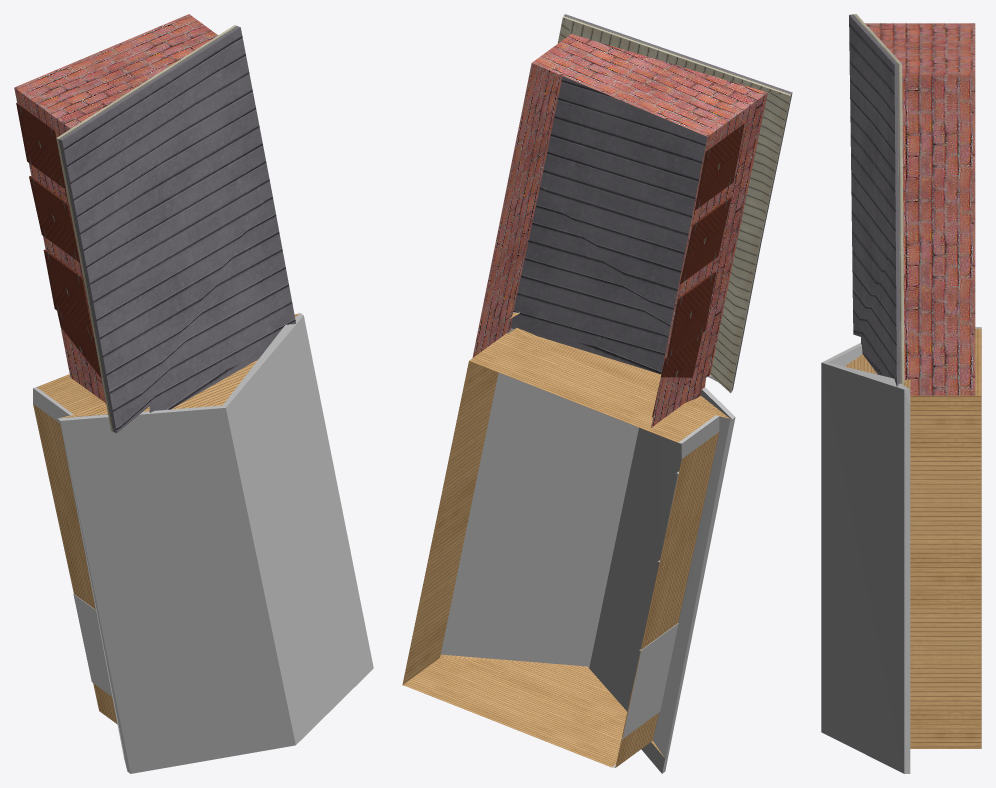
File: 103_Toompuiestee_16_korvalhoone2-origo.obj
3 renders of one model, left to right at view 1: azimuth 30°, elevation 25°; view 2: azimuth 150°, elevation 25°; view 3: azimuth 270°, elevation 25°, orthographic. The views are drawn at different scales.
Visible parts, largest first — view 1: TP16_03; view 2: TP16_03; view 3: TP16_03.
Part boxes in pixels (<box>): TP16_03: <box>14,14,373,773</box>; TP16_03: <box>402,14,792,773</box>; TP16_03: <box>821,14,981,773</box>.
Bounding box in the file's own units: 11.62 × 23.5 × 4.96.
